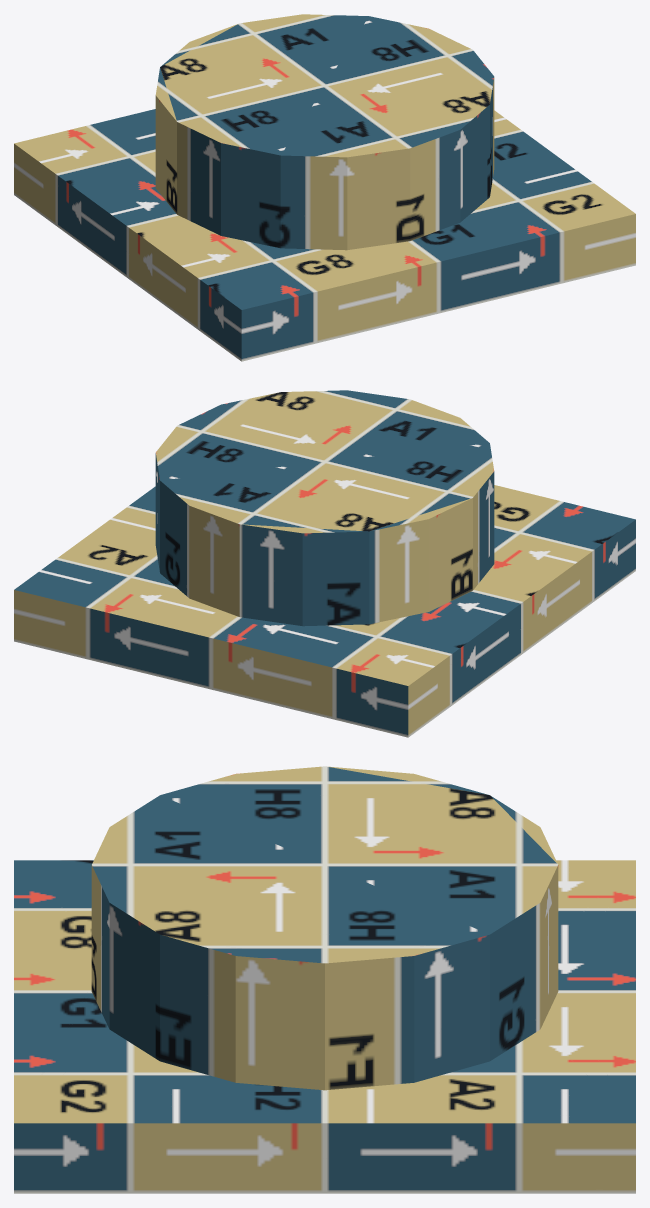
The model's file is DETAIL_ColumnBase.fbx.
3 renders of one model, top to bottom at view 1: azimuth 30°, elevation 25°; view 2: azimuth 150°, elevation 25°; view 3: azimuth 270°, elevation 25°, orthographic. The views are drawn at different scales.
Parts seen in each view (by area): view 1: DETAIL_ColumnBase; view 2: DETAIL_ColumnBase; view 3: DETAIL_ColumnBase.
Part boxes in pixels (bbox=[...]): DETAIL_ColumnBase: bbox=[14, 14, 635, 361]; DETAIL_ColumnBase: bbox=[14, 390, 635, 737]; DETAIL_ColumnBase: bbox=[14, 766, 635, 1193].
Bounding box in the file's own units: 80 × 28 × 80.
Materials: 1 (1 with a texture image).
